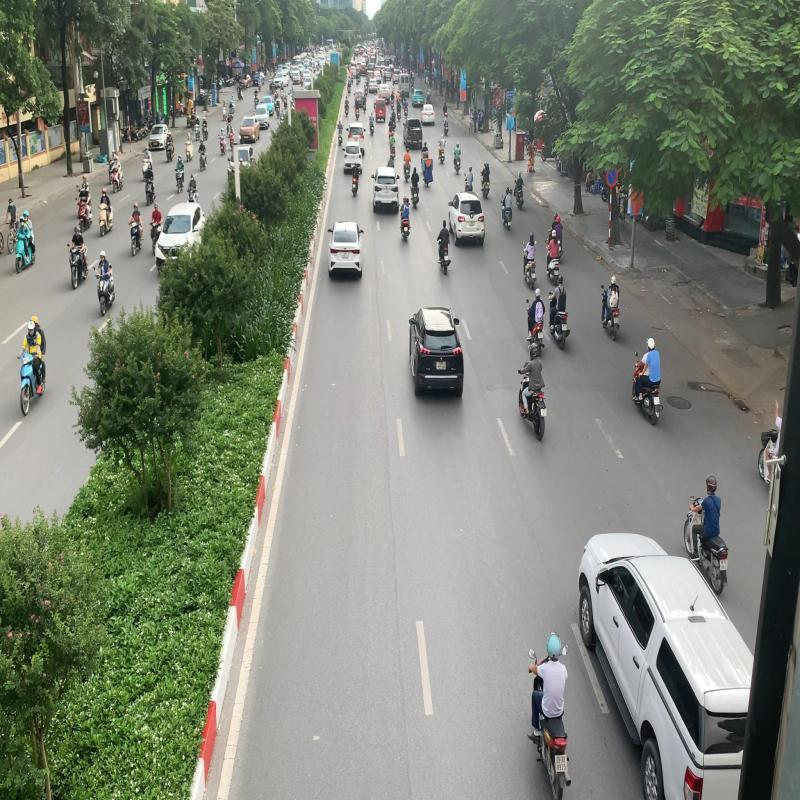helmet: (547, 632, 562, 658), (706, 474, 717, 493), (527, 344, 539, 360), (646, 336, 656, 352), (535, 288, 541, 298), (558, 276, 563, 284), (611, 276, 616, 284)
licenseplate: (555, 755, 568, 773), (720, 559, 728, 570), (654, 396, 660, 405), (541, 408, 547, 417), (538, 332, 544, 338), (562, 324, 567, 330), (614, 317, 618, 323)
motorcyclist: (528, 631, 571, 800), (683, 473, 729, 596), (518, 342, 548, 441), (632, 336, 664, 426), (548, 274, 570, 350), (526, 288, 545, 358), (600, 274, 619, 341)
